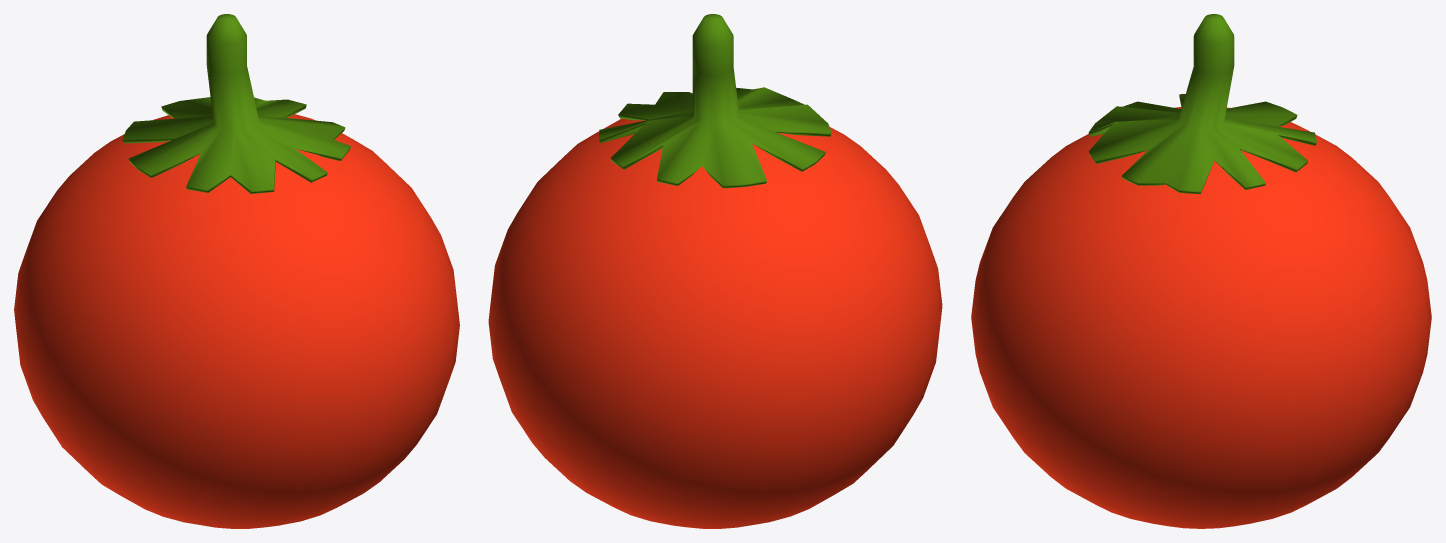
Rendered from Tomato.fbx.
The picture shows the model from 3 angles, left to right: view 1: azimuth 30°, elevation 25°; view 2: azimuth 150°, elevation 25°; view 3: azimuth 270°, elevation 25°; orthographic projection.
Parts seen in each view (by area): view 1: Sphere, Sphere.001; view 2: Sphere, Sphere.001; view 3: Sphere, Sphere.001.
Boxes of the visible parts, left/top/right/bottom form: Sphere: left=14, top=114, right=459, bottom=528; Sphere.001: left=122, top=14, right=351, bottom=193; Sphere: left=488, top=118, right=942, bottom=528; Sphere.001: left=598, top=14, right=831, bottom=188; Sphere: left=971, top=107, right=1431, bottom=528; Sphere.001: left=1088, top=14, right=1316, bottom=194.
Size of the model in its own units: 176 by 214 by 183.
